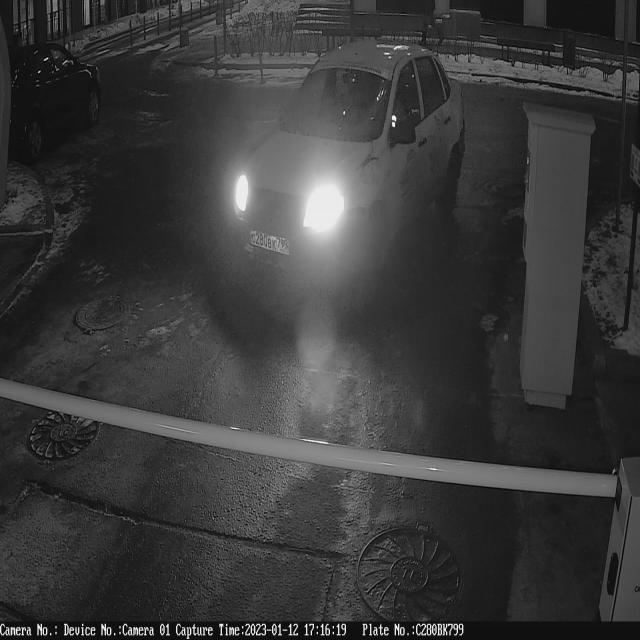car-plate-numbers: (249, 226, 293, 261)
